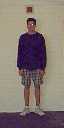person: (13, 19, 49, 119)
